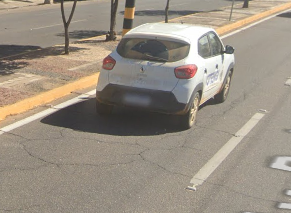car: (92, 6, 237, 134)
